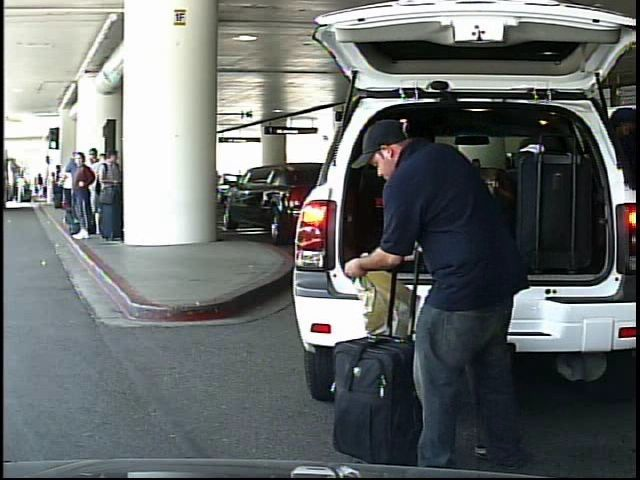person: (344, 109, 530, 472), (17, 174, 28, 205), (35, 172, 46, 200)
